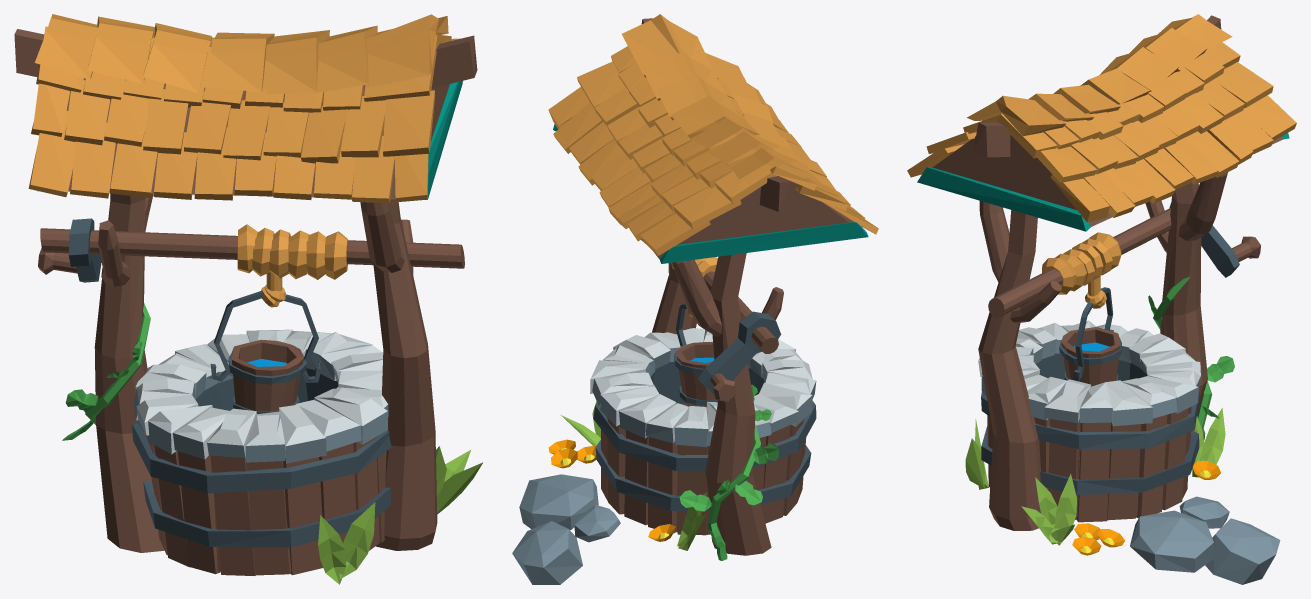
Rendered from well.glb.
3 renders of one model, left to right at view 1: azimuth 30°, elevation 25°; view 2: azimuth 150°, elevation 25°; view 3: azimuth 270°, elevation 25°, orthographic. The views are drawn at different scales.
Parts seen in each view (by area): view 1: group1784896143, group1816269119, group1378999907, group1463751419, group712474116, group784225283, group819284552, group904038137, group543979763, group1636832775, group156962315, group1713935403 (+43 smaller); view 2: group1784896143, group1378999907, group1984699503, group644428560, group464703084, group784225283, group511529357, group1463751419, group156962315, group904038137, group543979763, group1433549866 (+35 smaller); view 3: group1784896143, group1816269119, group1984699503, group1378999907, group644428560, group1463751419, group464703084, group712474116, group784225283, group819284552, group1636832775, group1433549866 (+41 smaller).
Boxes of the visible parts, <box> form: group1784896143: <box>132,329,391,575</box>; group1816269119: <box>360,199,437,550</box>; group1378999907: <box>94,193,164,552</box>; group1463751419: <box>210,291,321,413</box>; group712474116: <box>40,228,464,268</box>; group784225283: <box>365,14,448,87</box>; group819284552: <box>143,23,211,93</box>; group904038137: <box>204,32,274,91</box>; group543979763: <box>263,30,329,94</box>; group1636832775: <box>87,16,154,83</box>; group156962315: <box>313,25,377,93</box>; group1713935403: <box>382,90,435,156</box>; group1784896143: <box>590,328,816,535</box>; group1378999907: <box>672,253,783,555</box>; group1984699503: <box>553,124,868,263</box>; group644428560: <box>519,474,598,529</box>; group464703084: <box>512,521,582,584</box>; group784225283: <box>622,14,714,77</box>; group511529357: <box>698,311,781,395</box>; group1463751419: <box>674,303,717,405</box>; group156962315: <box>642,52,727,100</box>; group904038137: <box>671,95,759,138</box>; group543979763: <box>656,74,738,120</box>; group1433549866: <box>673,186,741,229</box>; group1784896143: <box>978,320,1200,522</box>; group1816269119: <box>978,201,1061,530</box>; group1984699503: <box>917,133,1289,231</box>; group1378999907: <box>1145,172,1227,415</box>; group644428560: <box>1130,510,1214,572</box>; group1463751419: <box>1059,287,1121,386</box>; group464703084: <box>1205,518,1280,584</box>; group712474116: <box>988,208,1171,316</box>; group784225283: <box>967,95,1066,135</box>; group819284552: <box>1100,47,1178,91</box>; group1636832775: <box>1129,28,1207,72</box>; group1433549866: <box>1213,62,1273,108</box>.
Bounding box in the file's own units: 0.3997 × 0.5361 × 0.3919.
